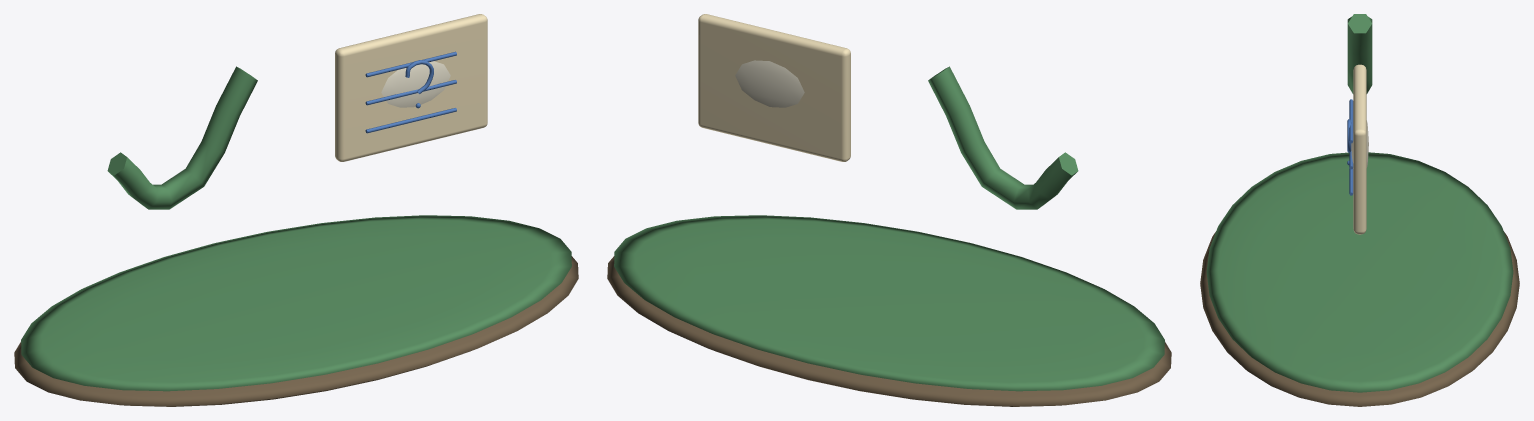
File: complete-first-question-on-page.glb
The picture shows the model from 3 angles, left to right: view 1: azimuth 30°, elevation 25°; view 2: azimuth 150°, elevation 25°; view 3: azimuth 270°, elevation 25°; orthographic projection. The views are drawn at different scales.
Parts seen in each view (by area): view 1: complete-first-question-on-page_surface_01, complete-first-question-on-page_surface_02, complete-first-question-on-page_surface_00, complete-first-question-on-page_surface_04, complete-first-question-on-page_surface_03; view 2: complete-first-question-on-page_surface_01, complete-first-question-on-page_surface_02, complete-first-question-on-page_surface_00, complete-first-question-on-page_surface_04; view 3: complete-first-question-on-page_surface_01, complete-first-question-on-page_surface_00, complete-first-question-on-page_surface_02, complete-first-question-on-page_surface_03.
Part boxes in pixels (<box>): complete-first-question-on-page_surface_01: <box>21,66,571,391</box>; complete-first-question-on-page_surface_02: <box>335,14,487,161</box>; complete-first-question-on-page_surface_00: <box>14,256,578,406</box>; complete-first-question-on-page_surface_04: <box>381,61,450,107</box>; complete-first-question-on-page_surface_03: <box>365,51,456,133</box>; complete-first-question-on-page_surface_01: <box>614,66,1164,391</box>; complete-first-question-on-page_surface_02: <box>698,14,850,161</box>; complete-first-question-on-page_surface_00: <box>607,256,1171,406</box>; complete-first-question-on-page_surface_04: <box>735,60,804,107</box>; complete-first-question-on-page_surface_01: <box>1206,14,1513,392</box>; complete-first-question-on-page_surface_00: <box>1200,232,1519,406</box>; complete-first-question-on-page_surface_02: <box>1353,64,1366,234</box>; complete-first-question-on-page_surface_03: <box>1347,99,1353,195</box>.
Bounding box in the file's own units: 4.56 × 2.23 × 2.5.
